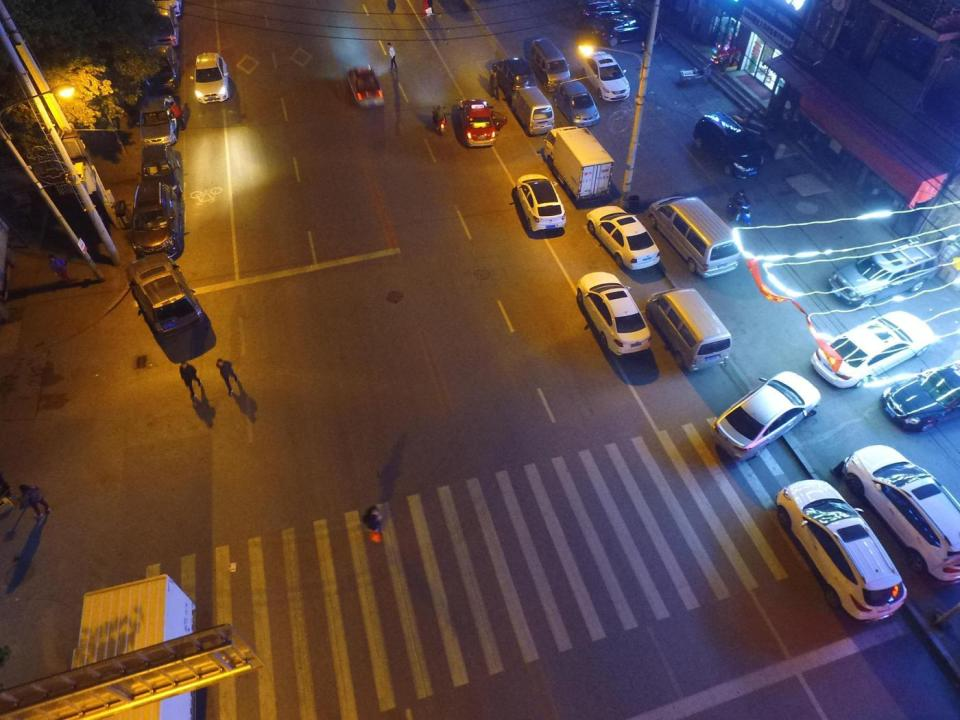car: (775, 478, 908, 620), (842, 441, 959, 584), (809, 311, 934, 388), (714, 369, 820, 459), (830, 240, 941, 308), (125, 252, 202, 339), (575, 270, 650, 357), (880, 358, 958, 431), (586, 205, 661, 272), (695, 110, 763, 178), (130, 182, 183, 259), (515, 174, 566, 231), (579, 52, 631, 102), (190, 52, 232, 104), (140, 145, 184, 193), (137, 94, 178, 144), (140, 42, 180, 93), (556, 81, 600, 127), (592, 14, 655, 46), (457, 100, 498, 148), (490, 58, 537, 96), (348, 62, 385, 109), (580, 0, 626, 21), (150, 16, 179, 45), (148, 0, 182, 17)
truck: (73, 574, 196, 719), (541, 127, 614, 200)
van: (650, 195, 743, 278), (645, 288, 733, 371)
